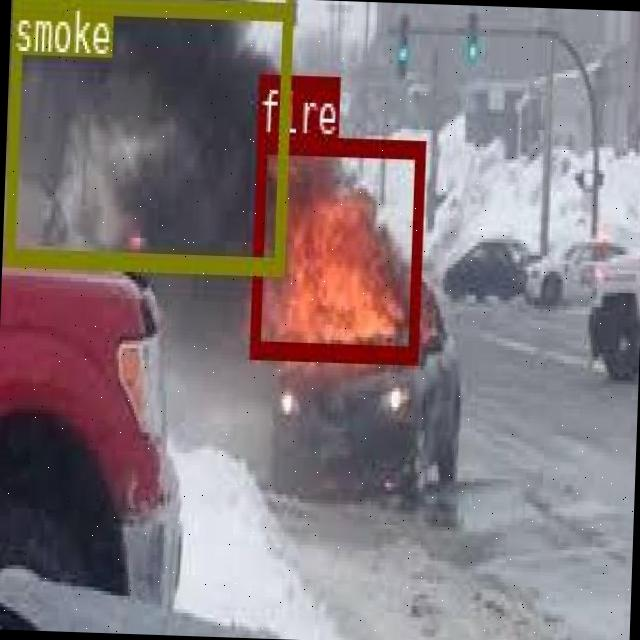fire: (248, 132, 422, 360)
smoke: (3, 0, 291, 273)
